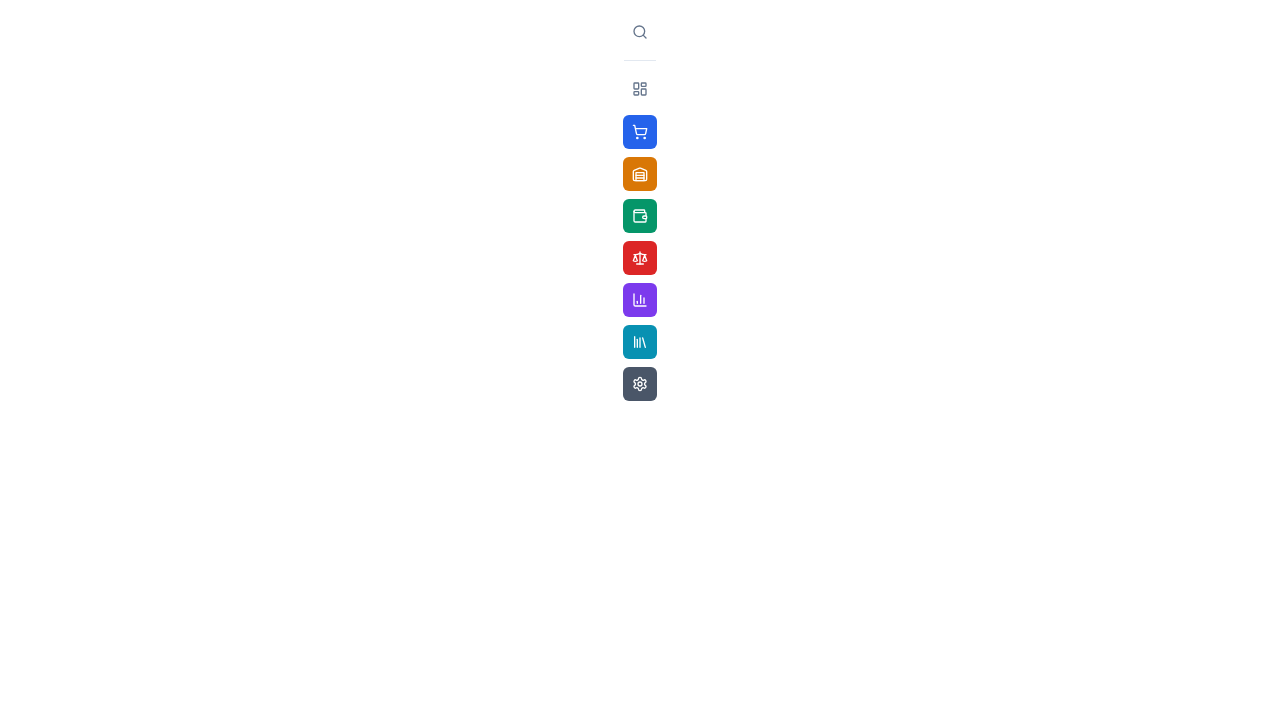
SidebarRail › choosing an item navigates and closes the flyout
Click the button named "Danh mục".
click(640, 342)  # box [623,325,657,359]
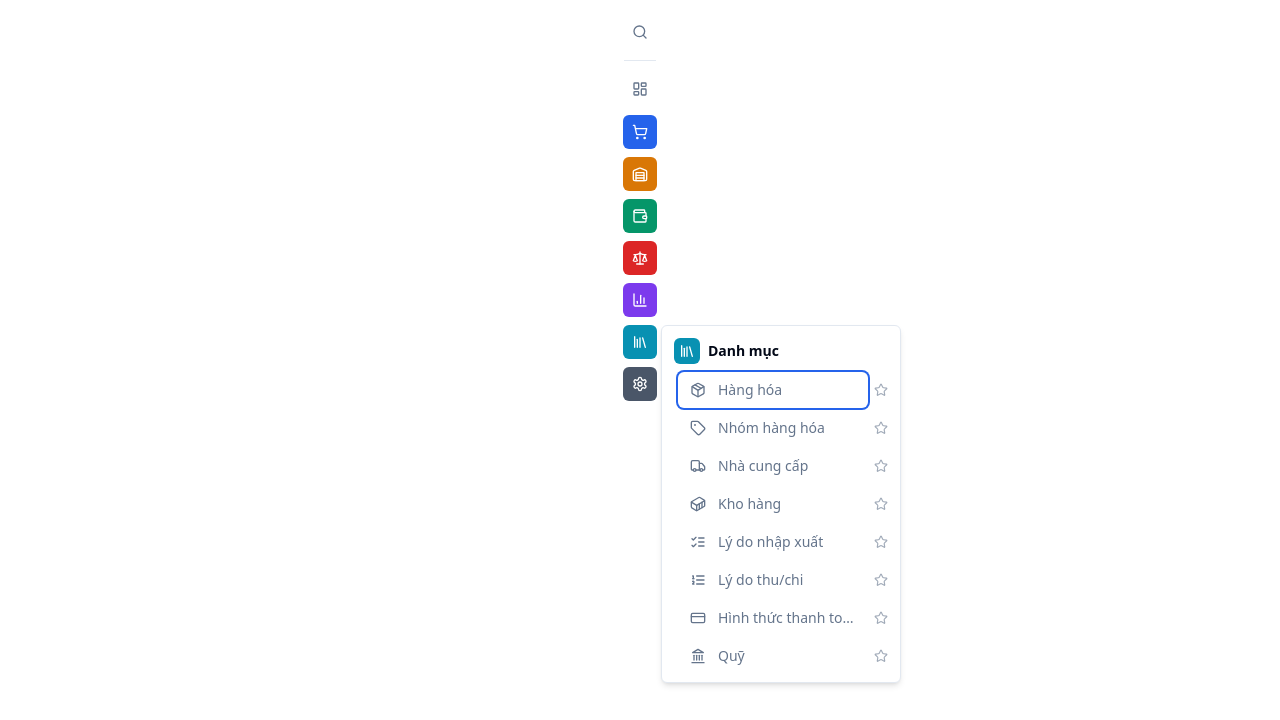
Click the link "Hàng hóa".
click(773, 390)  # box [678,372,868,408]
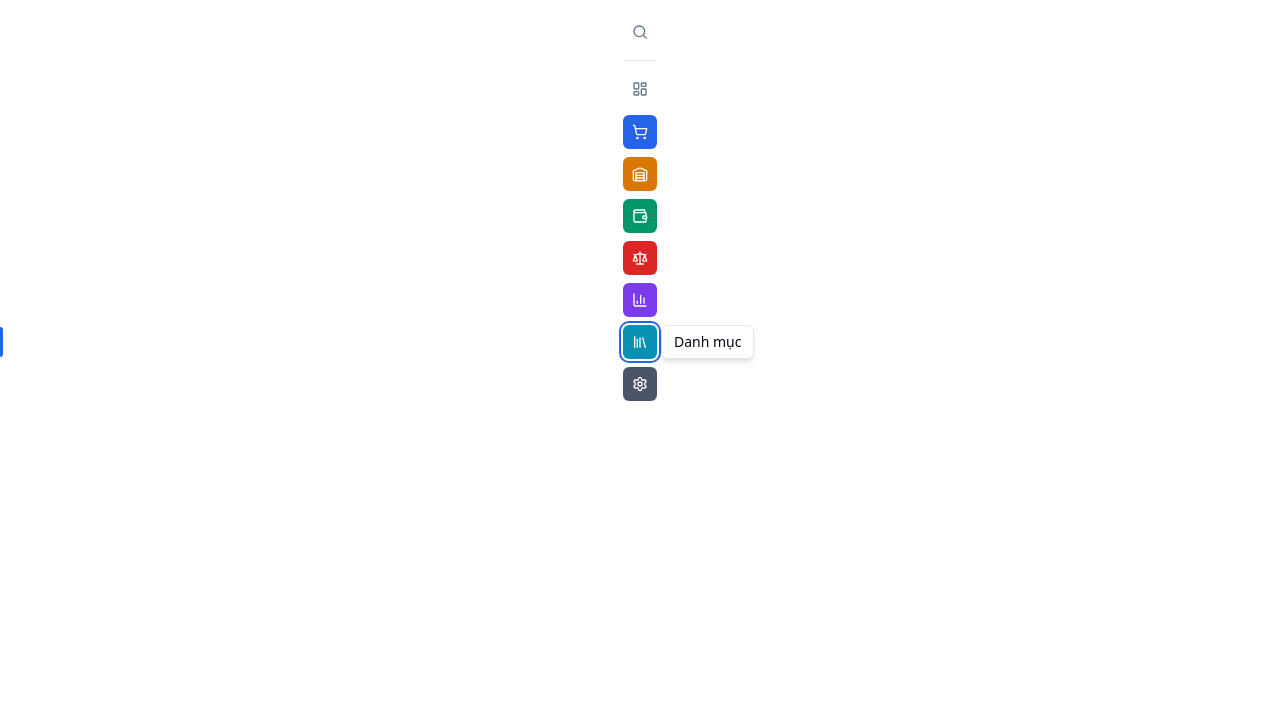
Check: the dialog is gone
